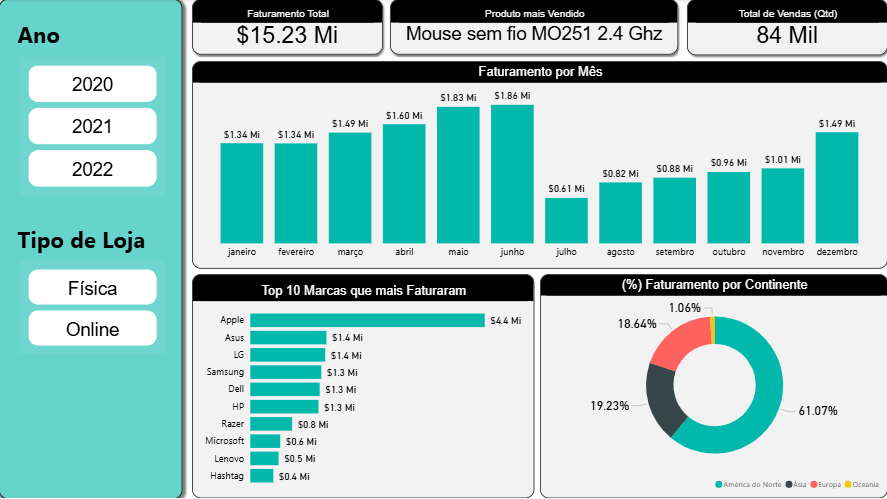

The page's visual inventory and layout, read from the dashboard file:
{"tool":"powerbi","page":{"name":"Dashboard_Faturamento","canvas":[1280,720],"ordinal":0},"visuals":[{"type":"textbox","box":[0,0,263.8,719.6],"z":0},{"type":"columnChart","title":"Faturamento por Mês","fields":{"Category":["dCalendario.Datas.Variation.Hierarquia de datas.Mês"],"Y":["fVendas.Faturamento Total"]},"box":[278.4,88.7,1001.6,298.6],"z":2000},{"type":"barChart","title":"Top 10 Marcas que mais Faturaram","fields":{"Category":["dProdutos.Marca"],"Y":["fVendas.Faturamento Total"]},"box":[278.4,396.6,493,323.5],"z":3000},{"type":"donutChart","title":"(%) Faturamento por Continente","fields":{"Category":["dLojas.Continente"],"Y":["fVendas.Faturamento Total"]},"box":[779.2,396.6,500.8,323.5],"z":4000},{"type":"card","title":"Faturamento Total","fields":{"Values":["fVendas.Faturamento Total"]},"box":[277.9,0,274.7,79.6],"z":5000},{"type":"card","title":"Total de Vendas (Qtd)","fields":{"Values":["fVendas.Qtd Total de vendas"]},"box":[991.2,0,288.8,81.2],"z":6000},{"type":"card","title":"Produto mais Vendido","fields":{"Values":["Min(dProdutos.Produto)"]},"box":[563.5,0,415.2,79.6],"z":7000},{"type":"advancedSlicerVisual","fields":{"Values":["dCalendario.Ano"]},"box":[30,83.6,209.2,199.8],"z":9000},{"type":"advancedSlicerVisual","title":"Tipo de Loja","fields":{"Values":["dLojas.Tipo"]},"box":[30.2,377.7,209.2,134.2],"z":10000},{"type":"textbox","box":[22.2,23.7,135.8,68.7],"z":11000},{"type":"textbox","box":[21.8,318.8,217.5,52.5],"z":12500}]}

Visuals, with their boxes in screenshot pixels (x1, y1, x2, y2), scaled from the page's 1280x720 canvas onto the 887x499 screenshot:
textbox: x1=0, y1=0, x2=183, y2=498
"Faturamento por Mês" columnChart: x1=193, y1=61, x2=886, y2=268
"Top 10 Marcas que mais Faturaram" barChart: x1=193, y1=275, x2=535, y2=498
"(%) Faturamento por Continente" donutChart: x1=540, y1=275, x2=886, y2=498
"Faturamento Total" card: x1=193, y1=0, x2=383, y2=55
"Total de Vendas (Qtd)" card: x1=687, y1=0, x2=886, y2=56
"Produto mais Vendido" card: x1=390, y1=0, x2=678, y2=55
advancedSlicerVisual - dCalendario.Ano: x1=21, y1=58, x2=166, y2=196
"Tipo de Loja" advancedSlicerVisual: x1=21, y1=262, x2=166, y2=355
textbox: x1=15, y1=16, x2=109, y2=64
textbox: x1=15, y1=221, x2=166, y2=257
